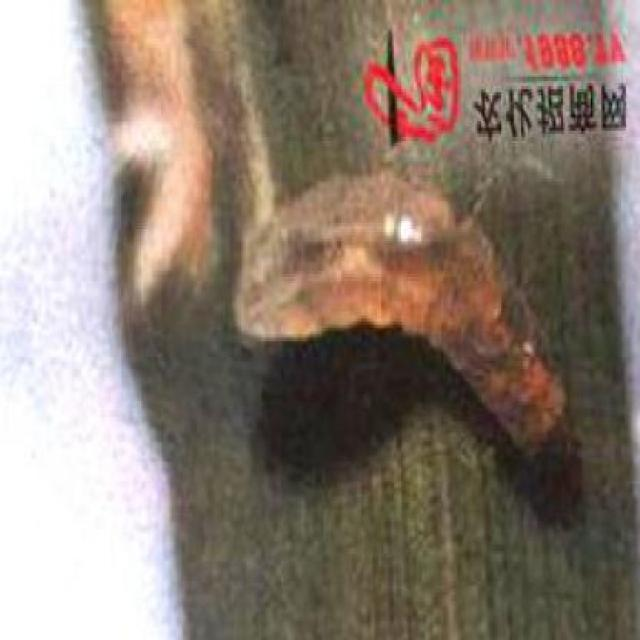whorl-maggot: (233, 167, 564, 473)
